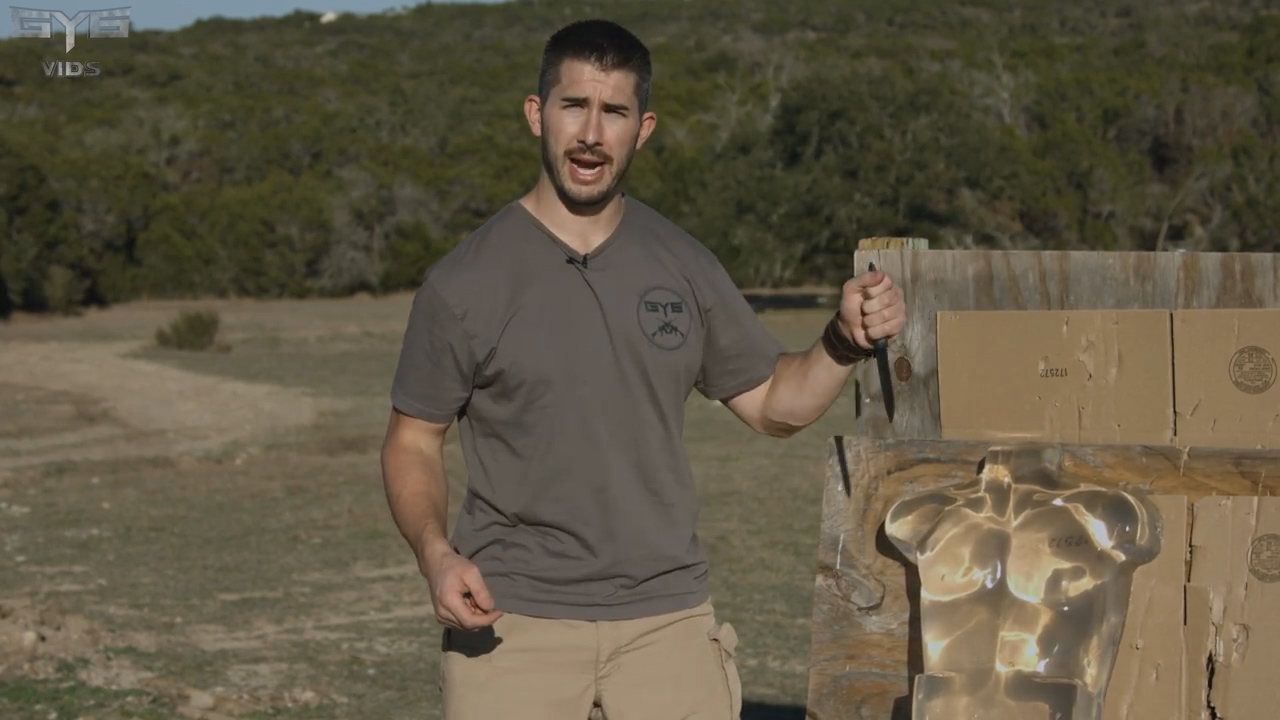knife: (844, 264, 915, 427)
